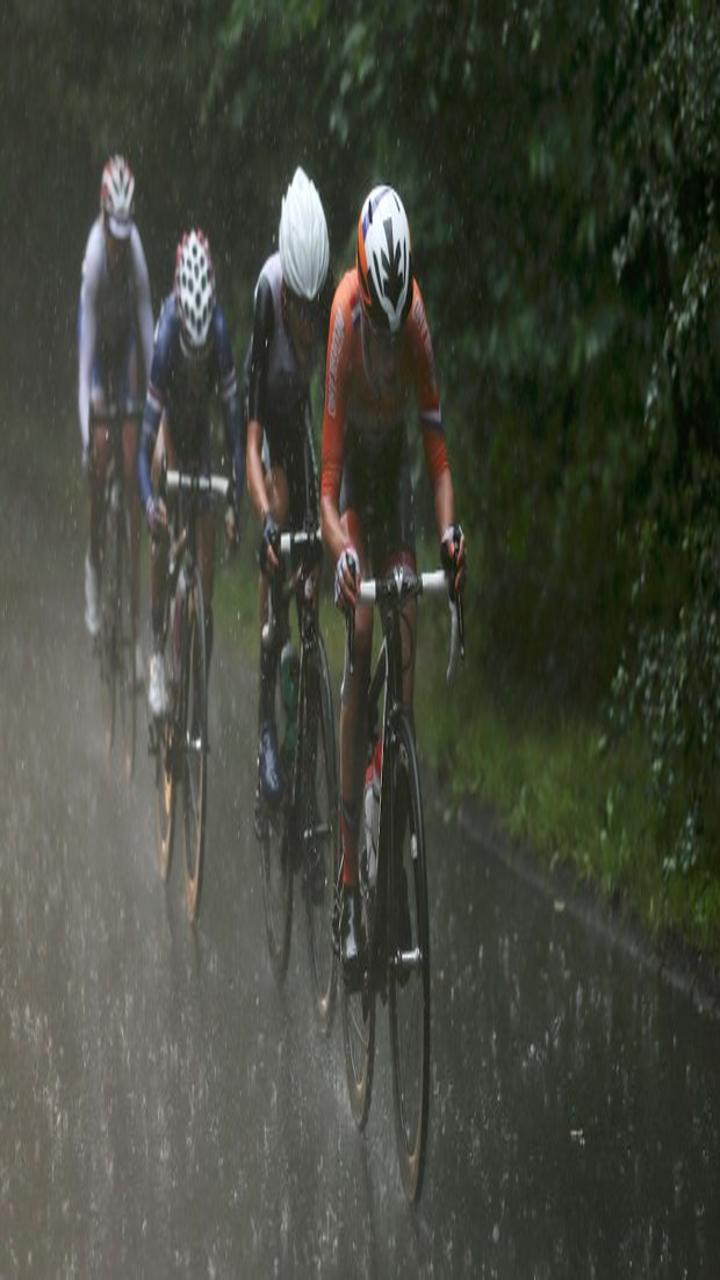bicycle: (320, 564, 456, 1197), (254, 499, 340, 992), (153, 495, 239, 988), (75, 410, 161, 903)
cyclist: (316, 180, 467, 719), (238, 163, 389, 702), (132, 174, 267, 596), (53, 152, 188, 574)
